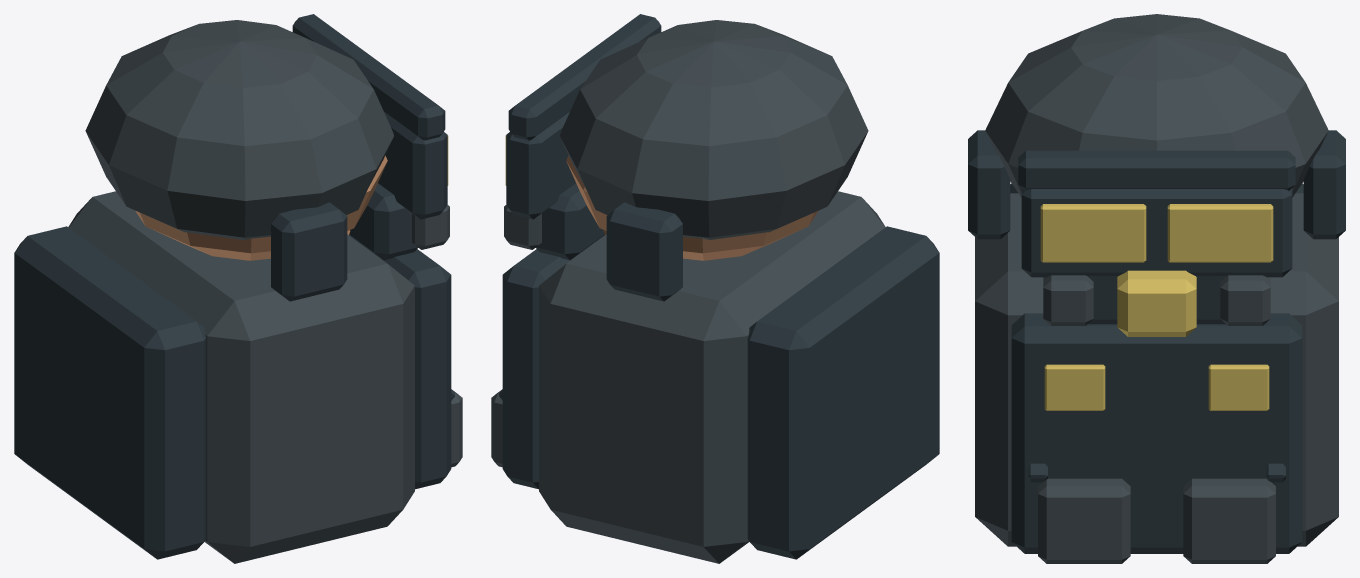
The model's file is urban-assault.containment.glb.
The picture shows the model from 3 angles, left to right: view 1: azimuth 30°, elevation 25°; view 2: azimuth 150°, elevation 25°; view 3: azimuth 270°, elevation 25°; orthographic projection. The views are drawn at different scales.
Parts seen in each view (by area): view 1: urban-assault_containment__main__torso_finish_424c51_0.03, urban-assault_containment__main__torso_finish_2f3c43_0.03, urban-assault_containment__main__head_finish_424c51_0.03, urban-assault_containment__main__head_finish_2f3c43_0.03, urban-assault_containment__main__head_finish_c38f6a_0.03; view 2: urban-assault_containment__main__torso_finish_424c51_0.03, urban-assault_containment__main__torso_finish_2f3c43_0.03, urban-assault_containment__main__head_finish_424c51_0.03, urban-assault_containment__main__head_finish_2f3c43_0.03, urban-assault_containment__main__head_finish_c38f6a_0.03; view 3: urban-assault_containment__main__torso_finish_2f3c43_0.03, urban-assault_containment__main__head_finish_424c51_0.03, urban-assault_containment__main__torso_finish_424c51_0.03, urban-assault_containment__main__head_finish_2f3c43_0.03, urban-assault_containment__main__head_finish_d5be62_0.03, urban-assault_containment__main__torso_finish_d5be62_0.03.
Part boxes in pixels (bbox=[...]): urban-assault_containment__main__torso_finish_424c51_0.03: bbox=[68, 191, 462, 563]; urban-assault_containment__main__torso_finish_2f3c43_0.03: bbox=[14, 226, 454, 559]; urban-assault_containment__main__head_finish_424c51_0.03: bbox=[85, 20, 449, 249]; urban-assault_containment__main__head_finish_2f3c43_0.03: bbox=[271, 14, 447, 301]; urban-assault_containment__main__head_finish_c38f6a_0.03: bbox=[135, 155, 387, 260]; urban-assault_containment__main__torso_finish_424c51_0.03: bbox=[491, 191, 885, 563]; urban-assault_containment__main__torso_finish_2f3c43_0.03: bbox=[499, 226, 939, 559]; urban-assault_containment__main__head_finish_424c51_0.03: bbox=[504, 20, 868, 249]; urban-assault_containment__main__head_finish_2f3c43_0.03: bbox=[506, 14, 682, 301]; urban-assault_containment__main__head_finish_c38f6a_0.03: bbox=[566, 155, 818, 260]; urban-assault_containment__main__torso_finish_2f3c43_0.03: bbox=[1010, 183, 1303, 553]; urban-assault_containment__main__head_finish_424c51_0.03: bbox=[985, 14, 1328, 325]; urban-assault_containment__main__torso_finish_424c51_0.03: bbox=[975, 193, 1338, 563]; urban-assault_containment__main__head_finish_2f3c43_0.03: bbox=[968, 130, 1345, 324]; urban-assault_containment__main__head_finish_d5be62_0.03: bbox=[1040, 204, 1273, 336]; urban-assault_containment__main__torso_finish_d5be62_0.03: bbox=[1044, 364, 1269, 410].
Size of the model in its own units: 30.6 by 39.5 by 28.6.
